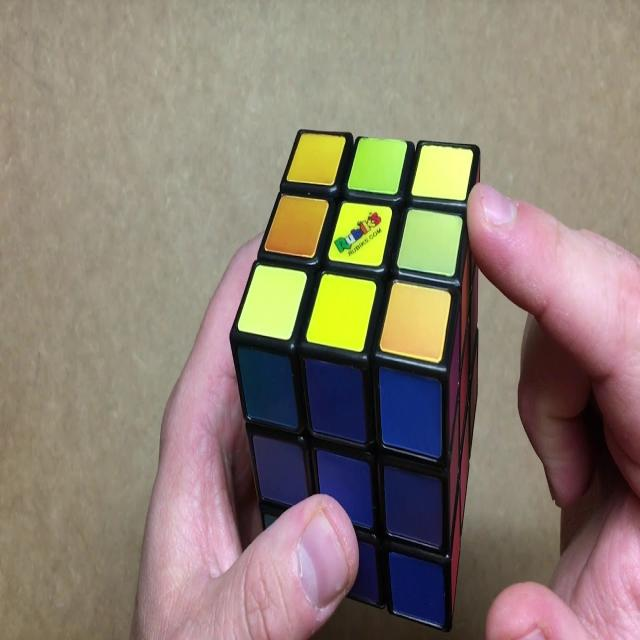Cubo-No-resuelto: (230, 130, 480, 631)
